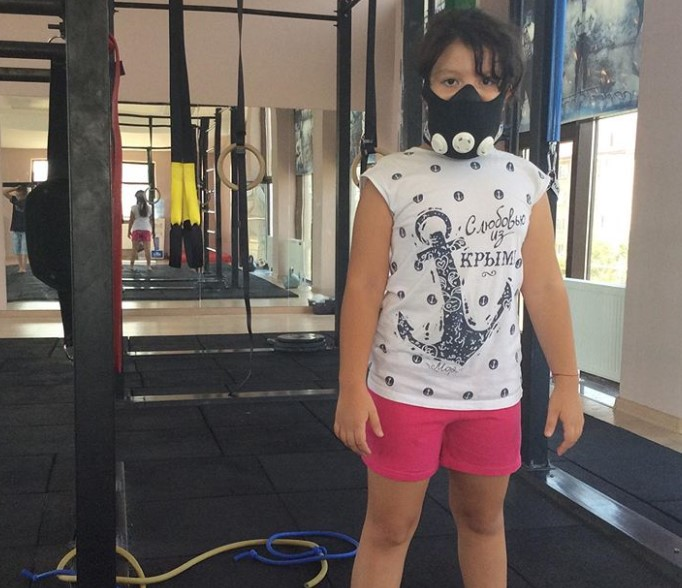face_with_mask: (411, 6, 520, 161)
